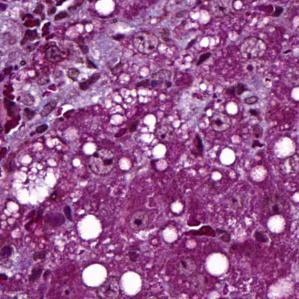ballooning: (8, 145, 62, 207)
